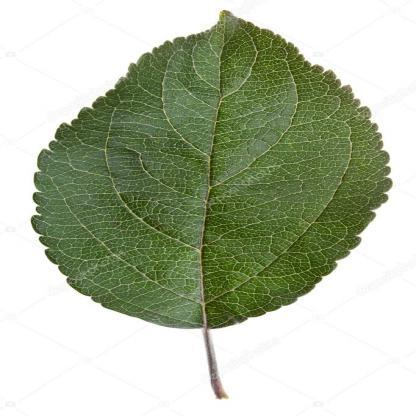Apple leaf: (20, 5, 404, 336)
